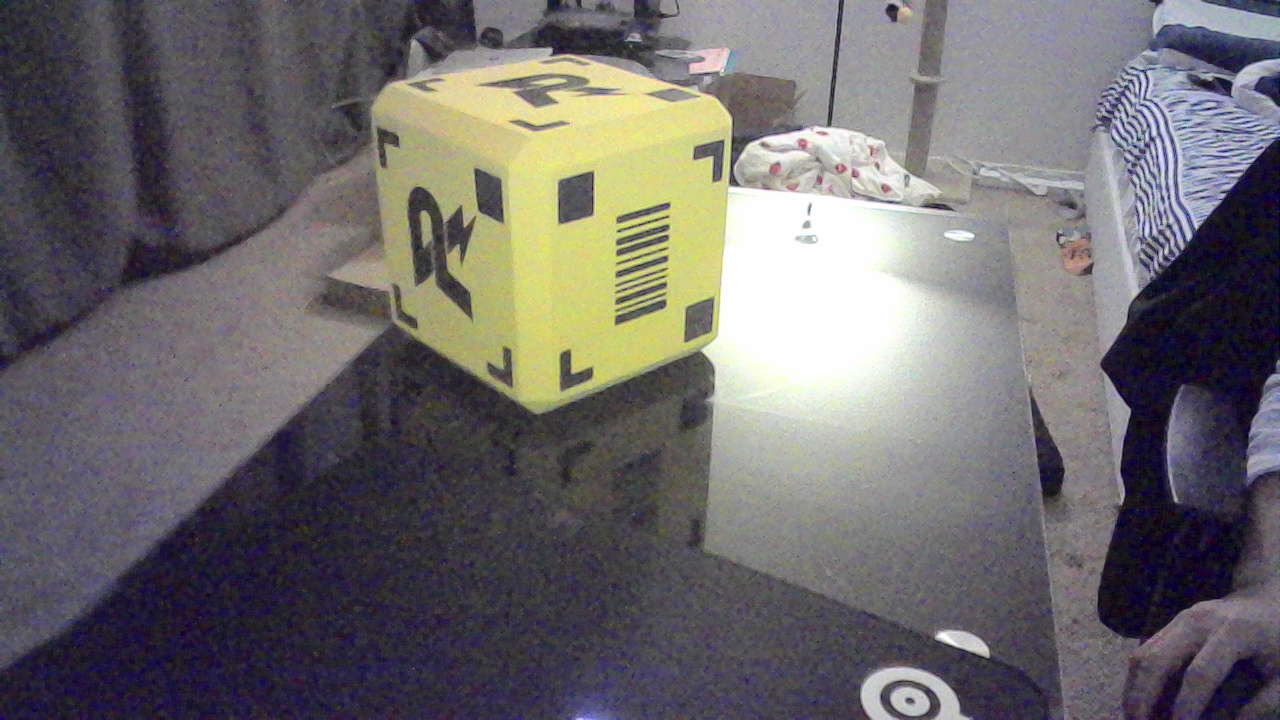Barcode: (622, 206, 681, 340)
R: (401, 187, 492, 320), (490, 71, 626, 123)
